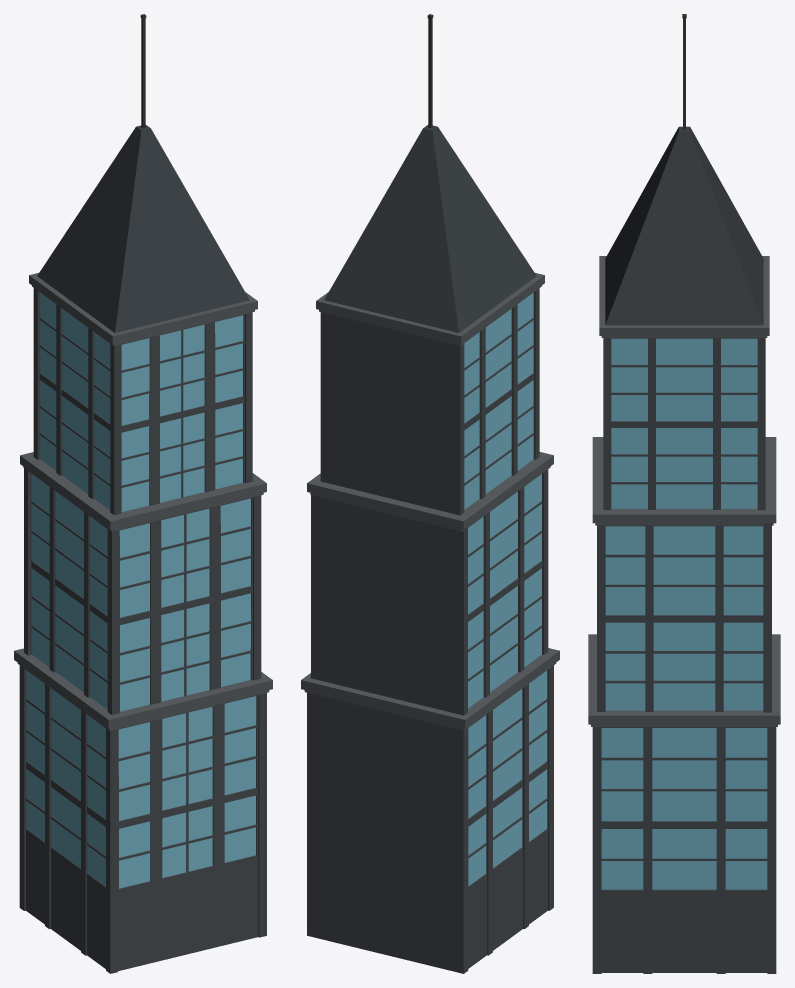
File: House_02.fbx
3 views of the same model, side by side, from view 1: azimuth 30°, elevation 25°; view 2: azimuth 150°, elevation 25°; view 3: azimuth 270°, elevation 25° (orthographic).
Parts seen in each view (by area): view 1: House_02; view 2: House_02; view 3: House_02.
Boxes of the visible parts, x1,y1,x2,y2 form: House_02: (14,14,272,973); House_02: (301,14,559,973); House_02: (588,14,780,973).
Size of the model in its own units: 1792 by 9458 by 1792.
